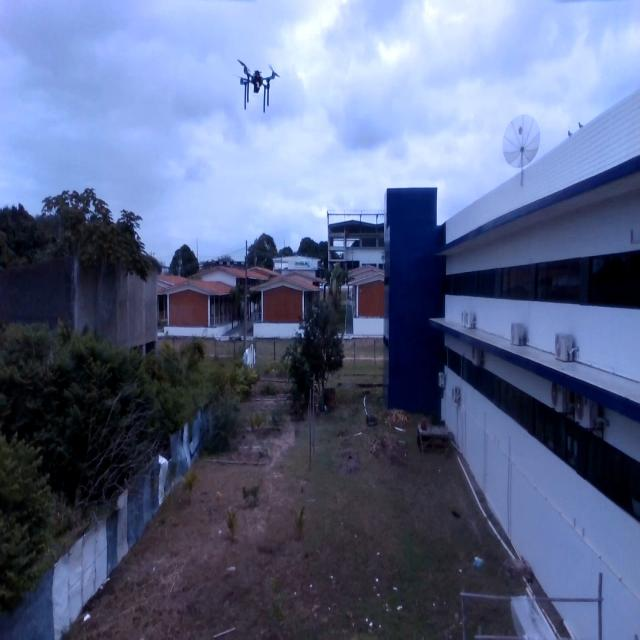-uav-: (230, 56, 282, 118)
